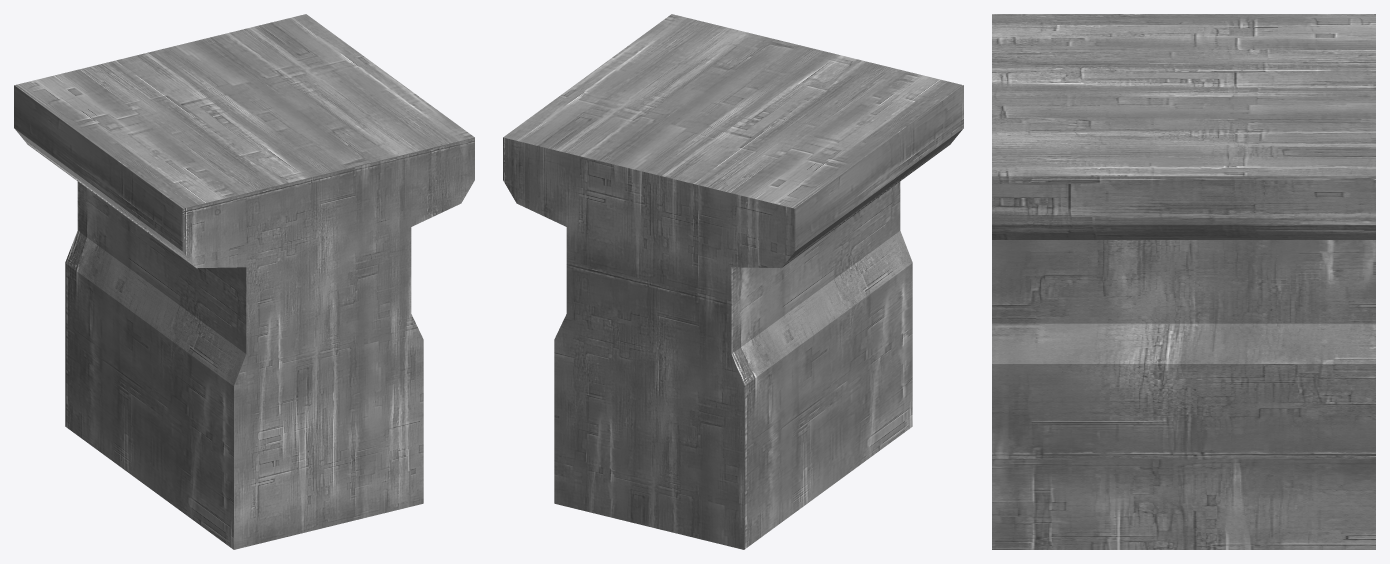
The model's file is Bridge_Mid.fbx.
3 views of the same model, side by side, from view 1: azimuth 30°, elevation 25°; view 2: azimuth 150°, elevation 25°; view 3: azimuth 270°, elevation 25° (orthographic). The views are drawn at different scales.
Parts seen in each view (by area): view 1: Bridge_Mid; view 2: Bridge_Mid; view 3: Bridge_Mid.
Boxes of the visible parts, x1,y1,x2,y2 form: Bridge_Mid: (14,14,474,549); Bridge_Mid: (503,14,963,549); Bridge_Mid: (992,14,1375,549).
Size of the model in its own units: 1470 by 1700 by 1470.
